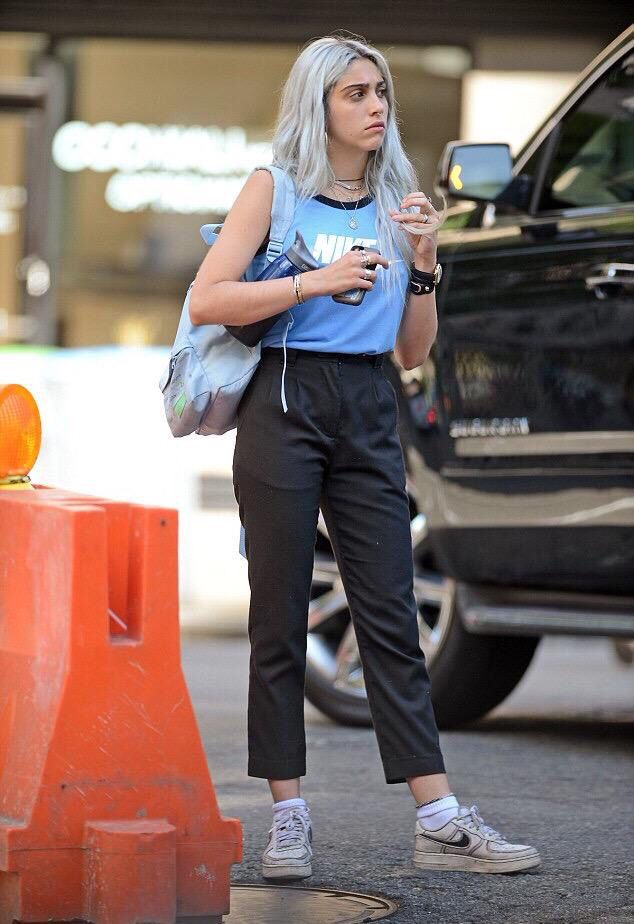Person: (190, 30, 542, 877)
